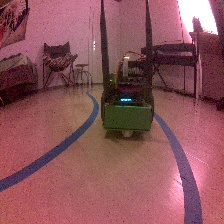rob: (99, 55, 155, 140)
